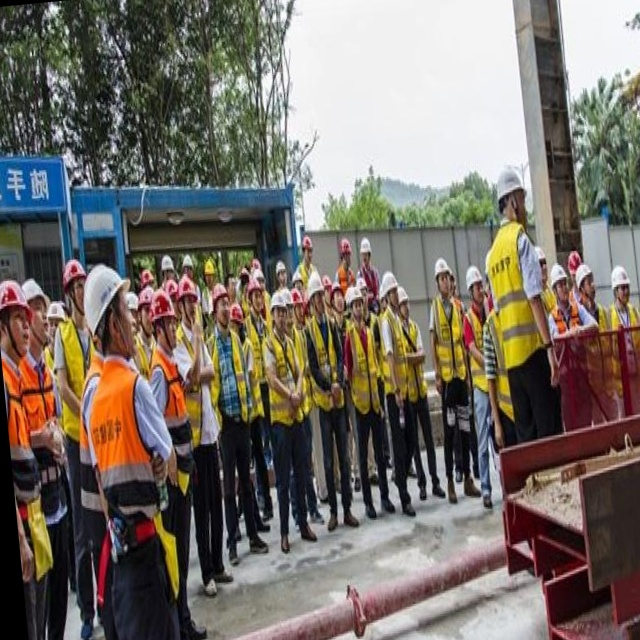Con_Chaleco: (82, 356, 172, 555), (486, 218, 543, 369), (428, 298, 467, 383)
